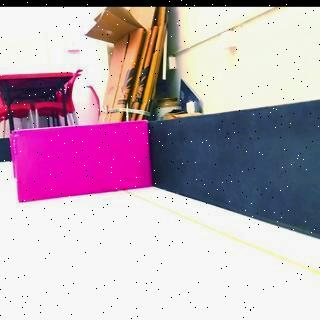xparking: (10, 120, 153, 202)
